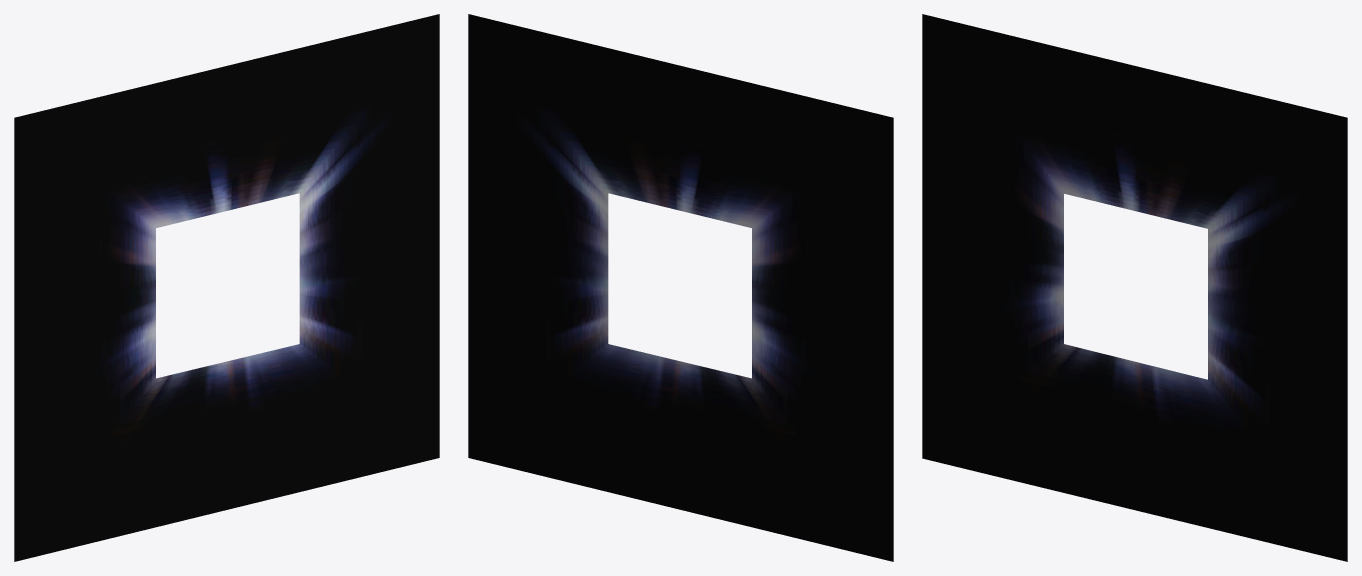
File: choujiang_biankuang02.FBX
3 renders of one model, left to right at view 1: azimuth 30°, elevation 25°; view 2: azimuth 150°, elevation 25°; view 3: azimuth 330°, elevation 25°, orthographic.
Parts seen in each view (by area): view 1: Plane005; view 2: Plane005; view 3: Plane005.
Boxes of the visible parts, <box> form: Plane005: <box>14,14,439,561</box>; Plane005: <box>468,14,893,561</box>; Plane005: <box>922,14,1347,561</box>.
Bounding box in the file's own units: 206 × 205 × 8.98e-06.
Materials: 1 (1 with a texture image).
